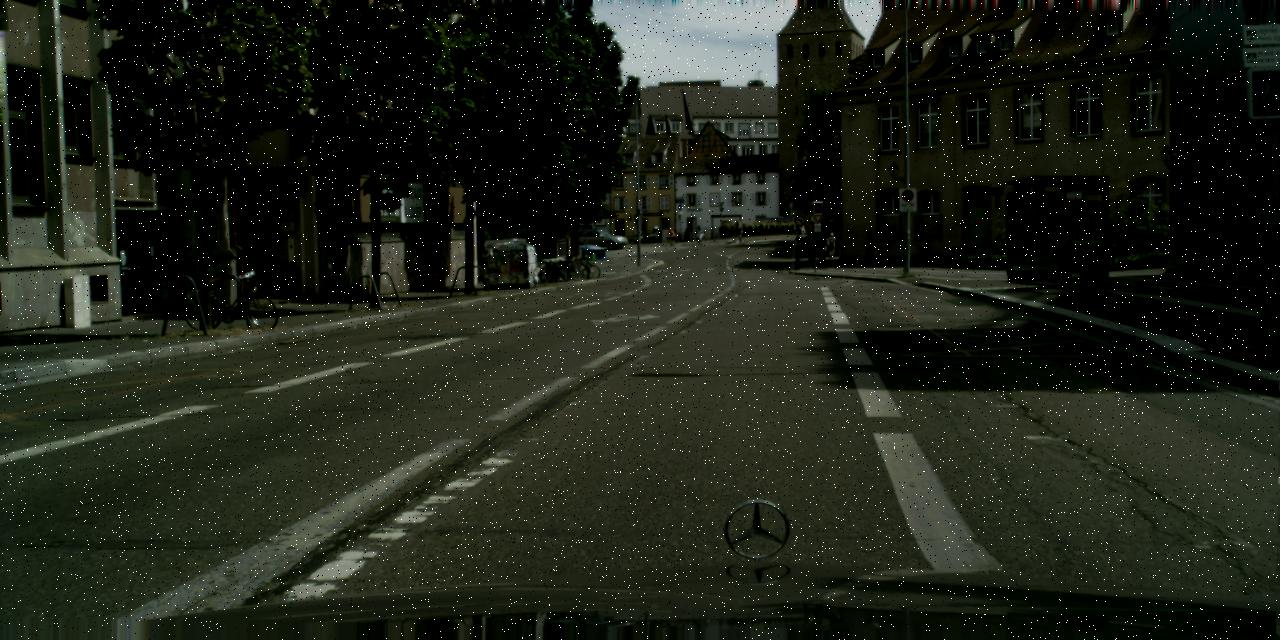ped: (862, 229, 876, 264), (814, 226, 828, 259), (804, 231, 817, 261), (825, 232, 836, 259), (806, 221, 815, 246), (694, 224, 702, 243), (734, 220, 741, 239), (666, 228, 673, 246)
